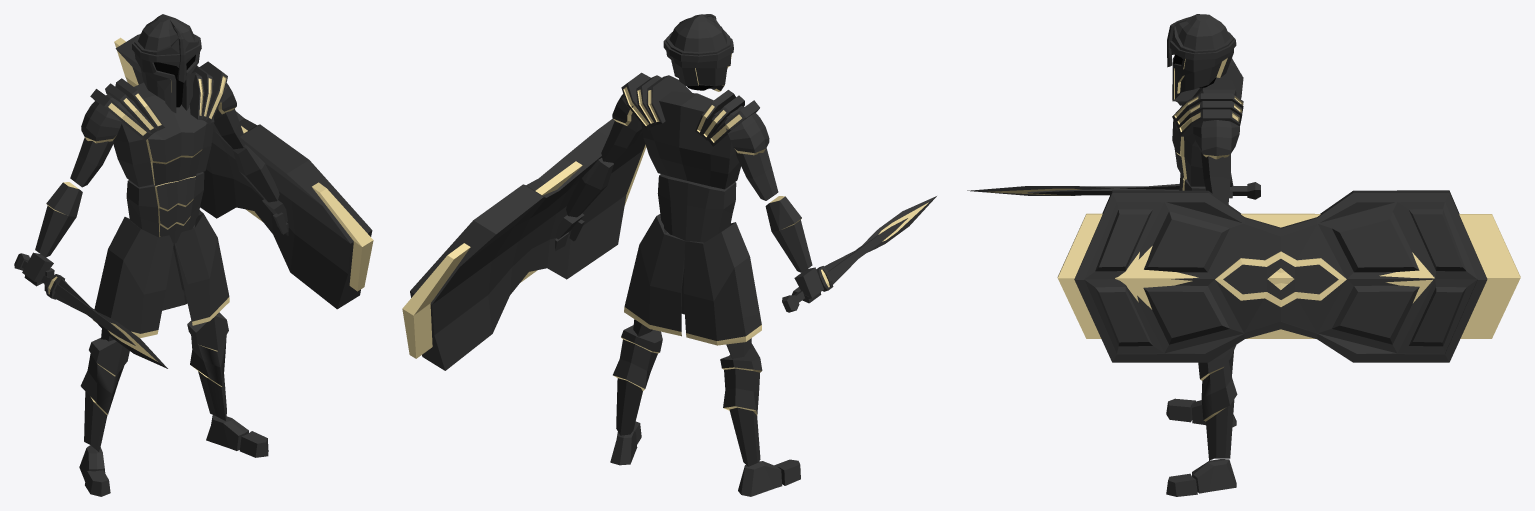
The model's file is DarkPraetorian.fbx.
3 renders of one model, left to right at view 1: azimuth 30°, elevation 25°; view 2: azimuth 150°, elevation 25°; view 3: azimuth 270°, elevation 25°, orthographic. The views are drawn at different scales.
Parts seen in each view (by area): view 1: pCube9, pasted__pCube34, polySurface52, pasted__pCube33, pPlane4, polySurface53, polySurface79, polySurface68, polySurface66, pCube1, polySurface60, polySurface54 (+8 smaller); view 2: pCube9, pasted__pCube34, polySurface52, pasted__pCube33, polySurface53, pPlane4, polySurface79, polySurface68, polySurface66, pCube1, polySurface60, polySurface54 (+6 smaller); view 3: pCube9, pPlane4, polySurface66, polySurface79, pCube1, polySurface52, pasted__pasted__polySurface5, polySurface49, polySurface55, polySurface48.
Part boxes in pixels (<box>): pCube9: <box>114,34,373,309</box>; pasted__pCube34: <box>92,217,173,338</box>; polySurface52: <box>113,82,214,187</box>; pasted__pCube33: <box>162,210,229,325</box>; pPlane4: <box>132,14,201,112</box>; polySurface53: <box>126,172,204,243</box>; polySurface79: <box>90,61,227,140</box>; polySurface68: <box>80,338,129,451</box>; polySurface66: <box>187,312,228,420</box>; pCube1: <box>14,253,167,368</box>; polySurface60: <box>35,182,82,257</box>; polySurface54: <box>233,144,279,202</box>; pCube9: <box>402,118,646,370</box>; pasted__pCube34: <box>683,222,761,345</box>; polySurface52: <box>641,91,740,189</box>; pasted__pCube33: <box>624,214,685,336</box>; polySurface53: <box>657,174,736,242</box>; pPlane4: <box>663,14,733,91</box>; polySurface79: <box>621,72,759,146</box>; polySurface68: <box>720,343,762,466</box>; polySurface66: <box>613,325,662,435</box>; pCube1: <box>782,196,936,312</box>; polySurface60: <box>765,196,812,272</box>; polySurface54: <box>566,158,613,217</box>; pCube9: <box>1057,190,1520,362</box>; pPlane4: <box>1167,14,1236,100</box>; polySurface66: <box>1198,350,1237,460</box>; polySurface79: <box>1172,58,1243,136</box>; pCube1: <box>967,182,1260,199</box>; polySurface52: <box>1172,80,1236,186</box>; pasted__pasted__polySurface5: <box>1193,120,1239,159</box>; polySurface49: <box>1192,459,1236,493</box>; polySurface55: <box>1201,152,1230,204</box>; polySurface48: <box>1166,473,1197,496</box>.
Size of the model in its own units: 4.4 by 6.77 by 7.73.
